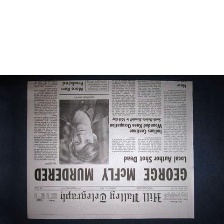news_paper: (24, 78, 201, 221)
